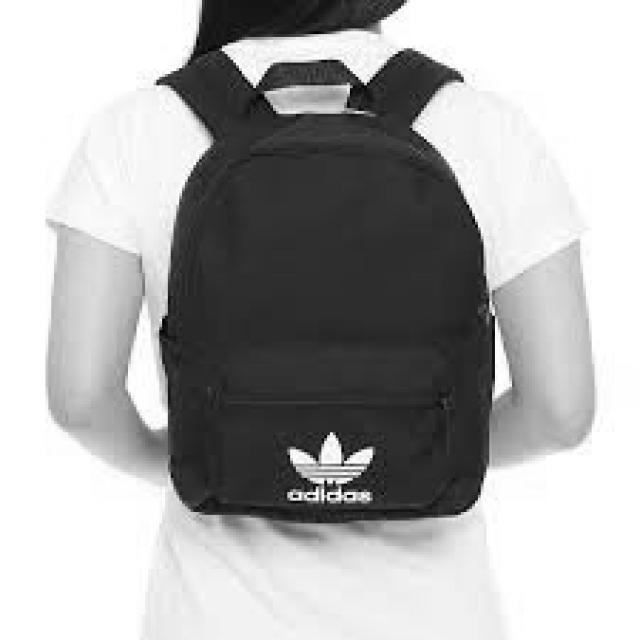Adidas: (279, 424, 387, 486)
